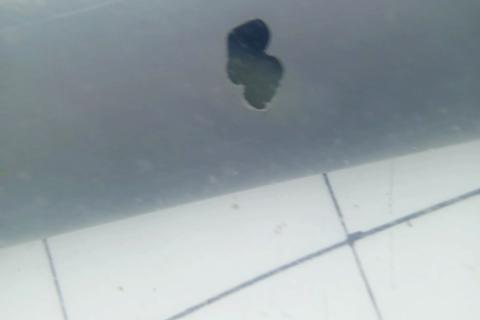kebocoran: (225, 15, 286, 112)
